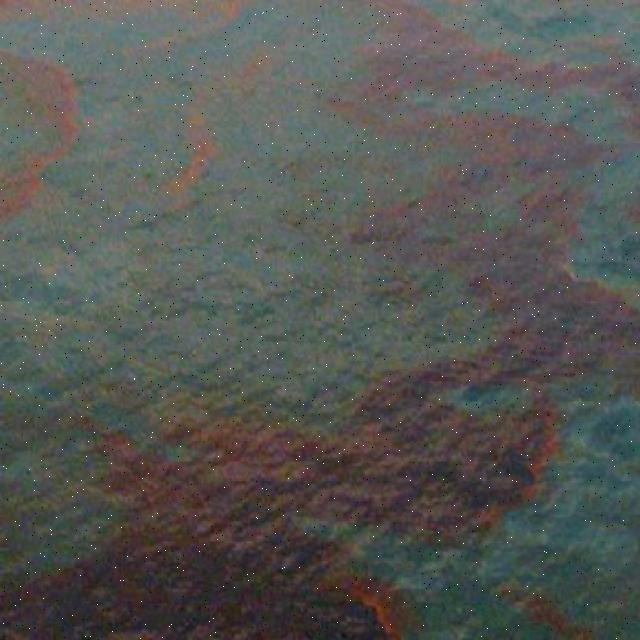oil: (2, 227, 636, 640)
